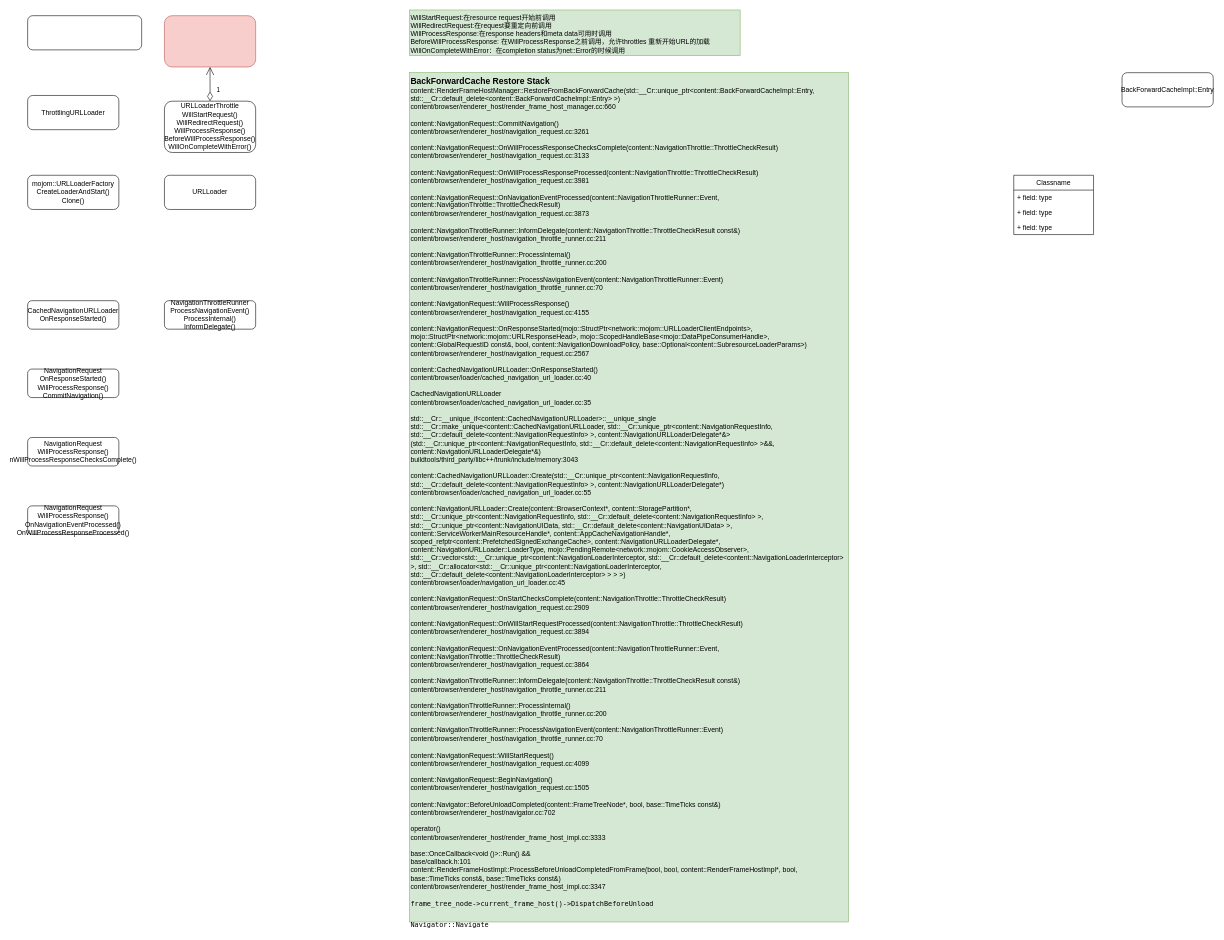
Image size: 1224x940. Some labels were removed from this diagram. Each missing label, with the centre of its shape:
"URLLoaderClient OnReceiveResponse() OnStartLoadingResponseBody() OnComplete()" belongs at (84,32).
"URLLoaderThrottle::Delegate CancelWithError() Resume()" belongs at (210,41).
